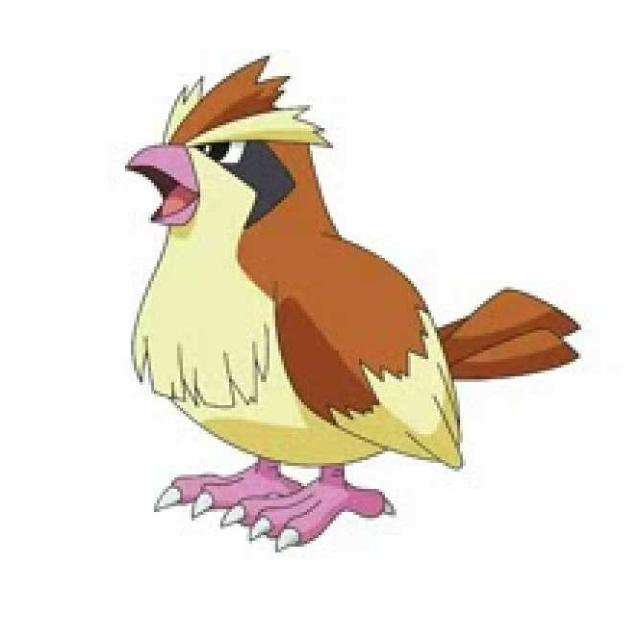Pidgey: (122, 56, 477, 529)
